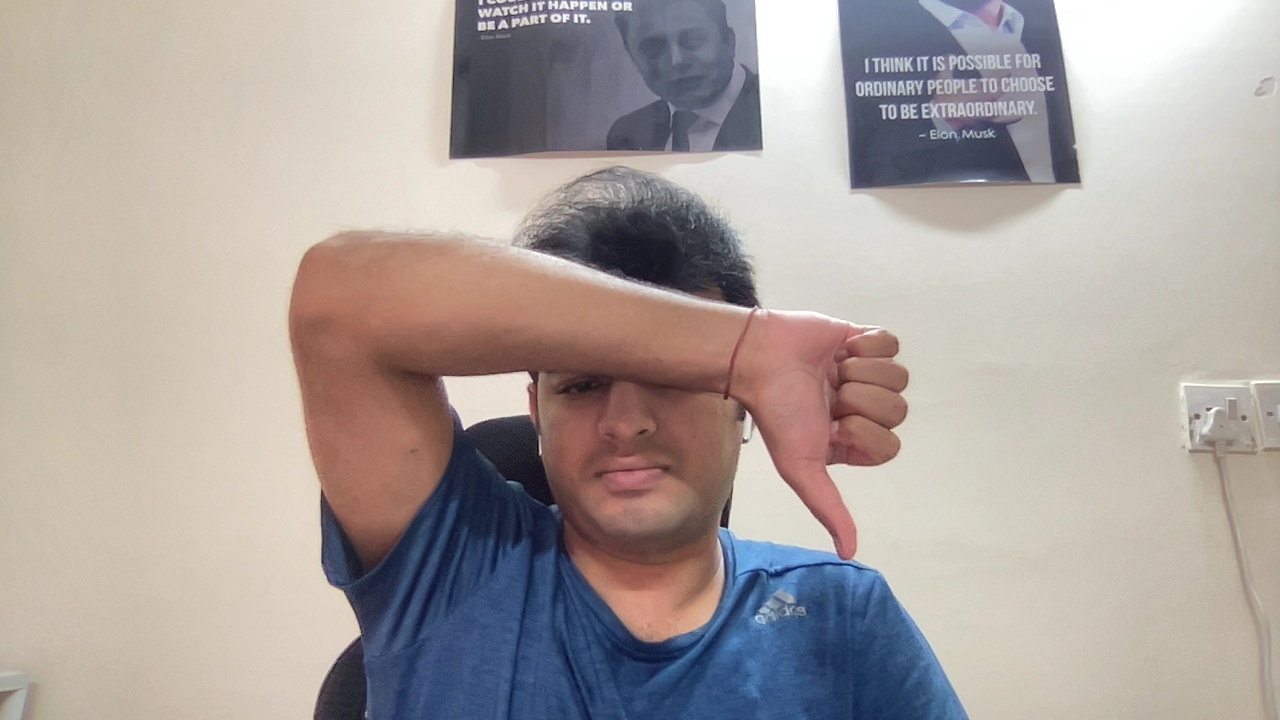down: (752, 296, 913, 573)
